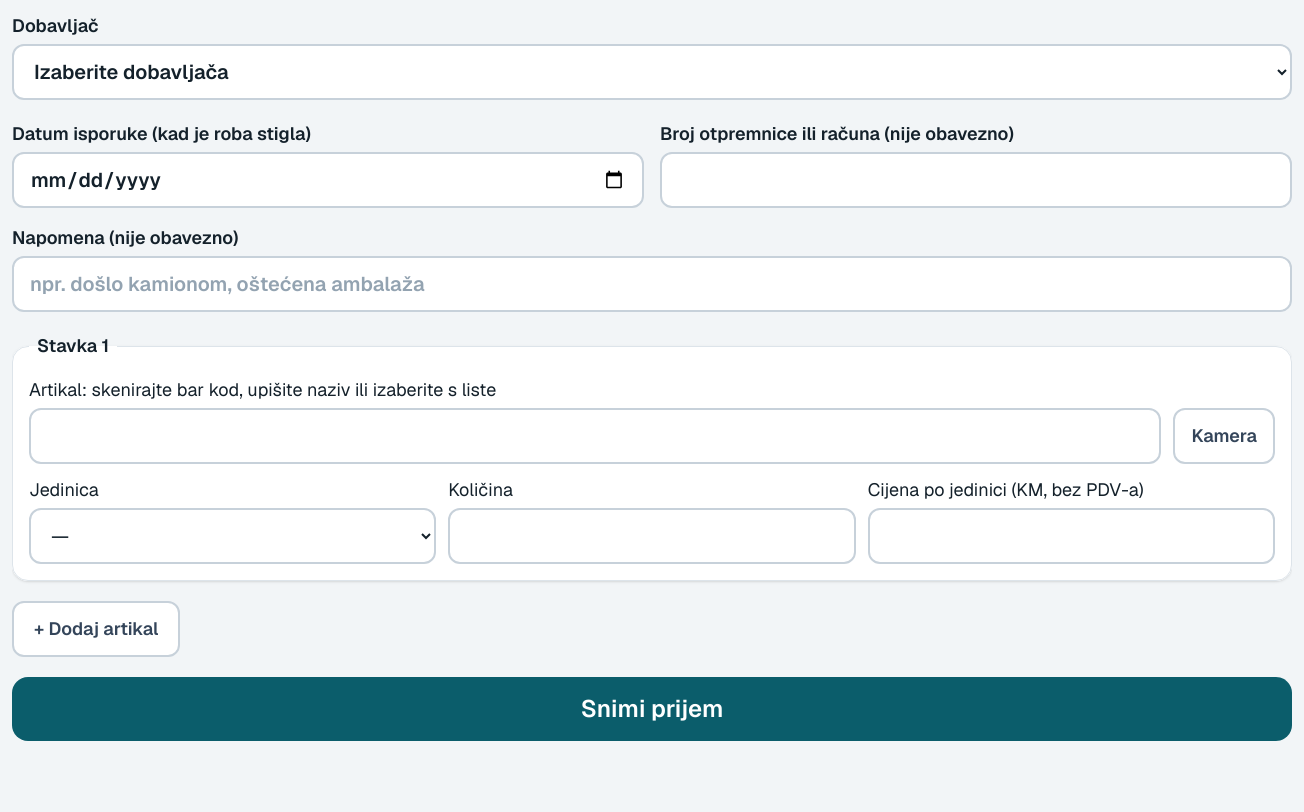
Test: prijem: unos artikla skenerom › skeniranje bar koda + Enter popunjava artikal i prelazi na količinu bez slanja forme
Select "Pekara" in the dropdown labelled "Dobavljač" at [652, 72], box [12,44,1292,100]
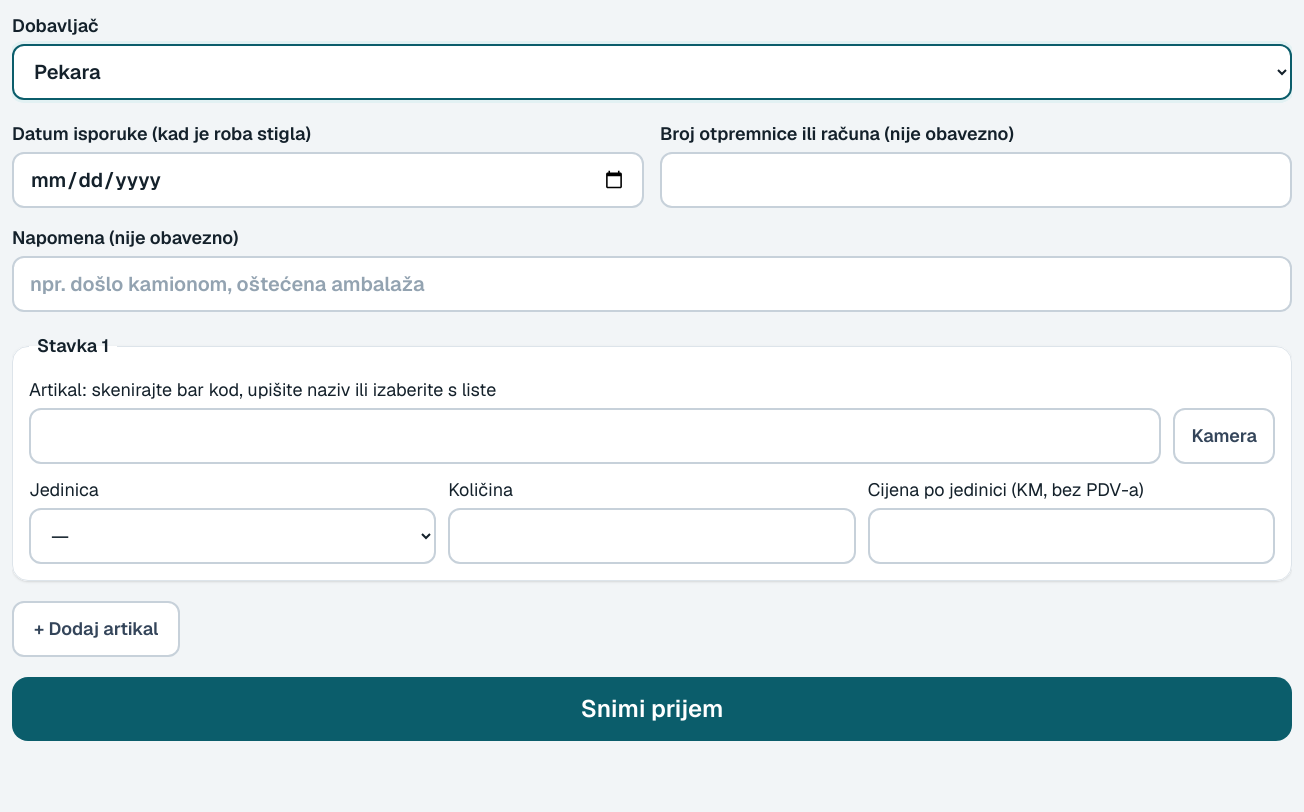
Click the field labelled "Artikal:" at [595, 436], box [29,408,1161,464]
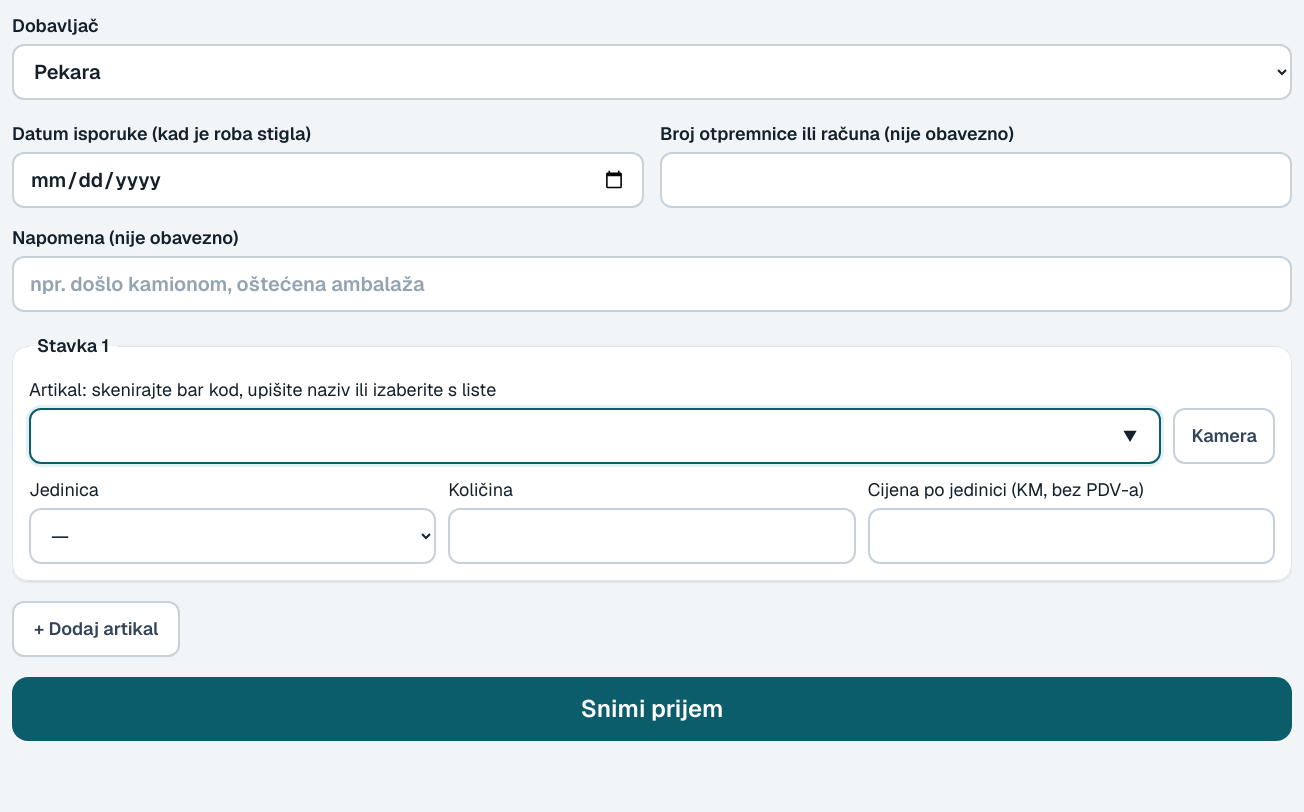
Type keys "3850001{Enter}"
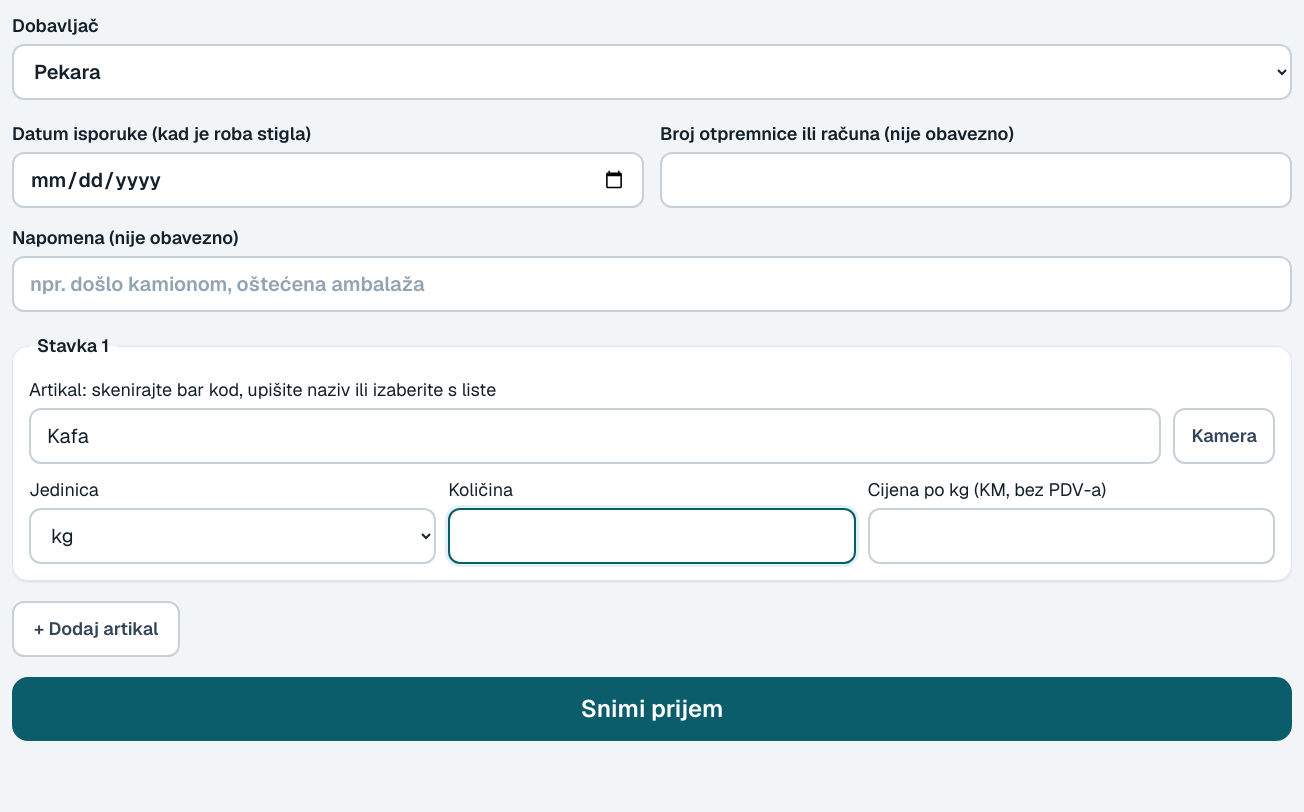
Check: the field labelled "Artikal:" holds "Kafa", box [29,408,1161,464]
